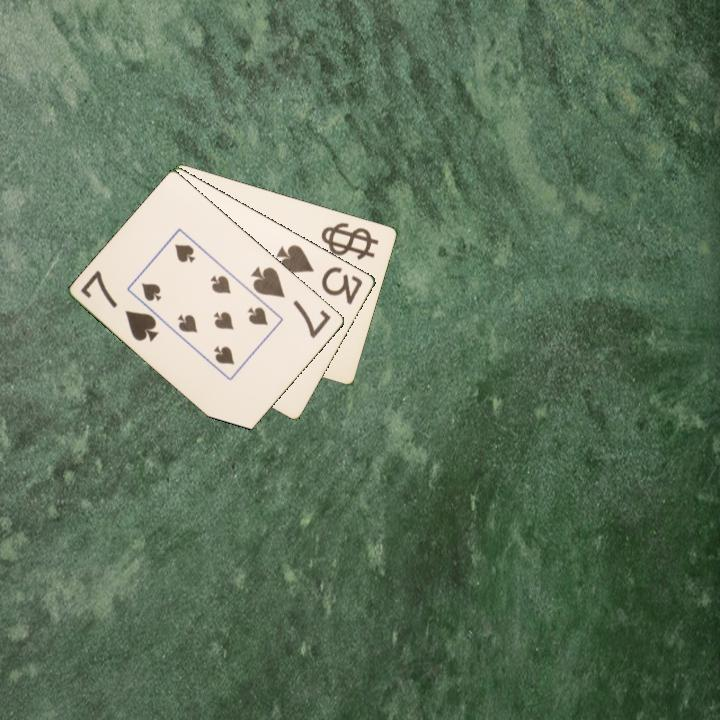3s: (272, 241, 366, 307)
7s: (248, 262, 334, 341), (77, 267, 162, 345)
JK: (322, 226, 371, 254)
